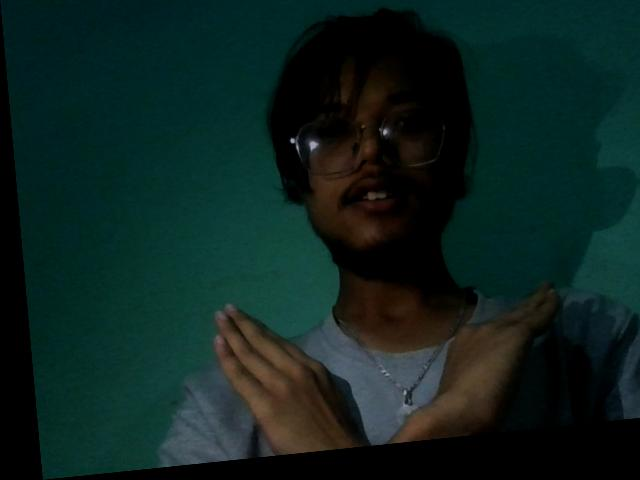dont: (182, 259, 580, 466)
